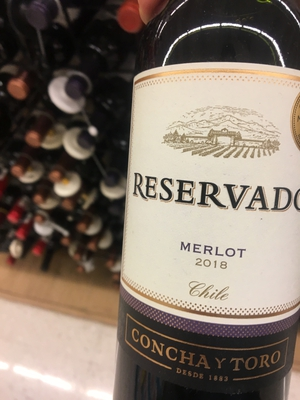reservado merlot: (106, 8, 300, 400)
